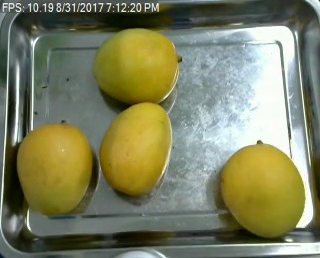Mango: (215, 141, 310, 239), (85, 25, 185, 108), (95, 102, 175, 199), (16, 121, 95, 214)
